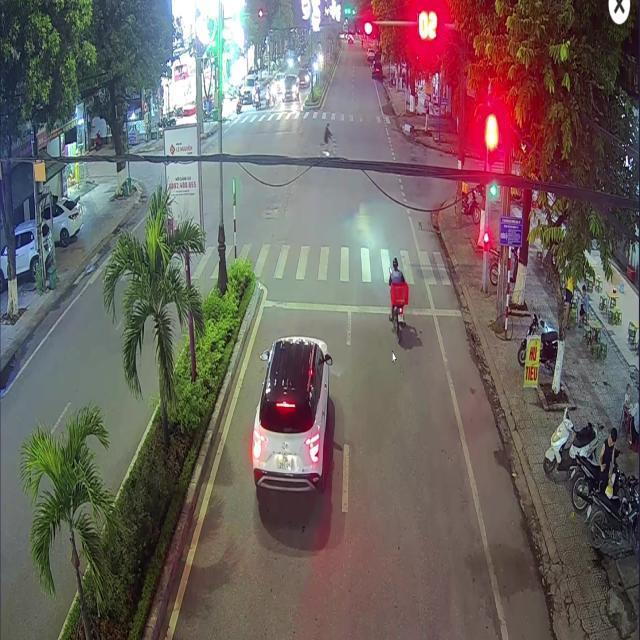car: (250, 336, 331, 503), (371, 61, 382, 77)
motobike: (388, 277, 408, 343)
red_light: (347, 19, 372, 34), (487, 130, 493, 164), (483, 231, 487, 250)
stop_line: (263, 300, 461, 315)
